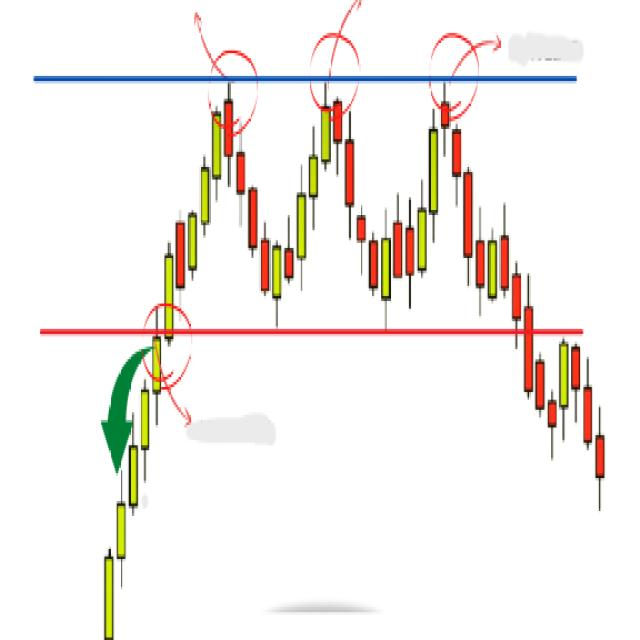Triple-Top: (158, 91, 521, 324)
